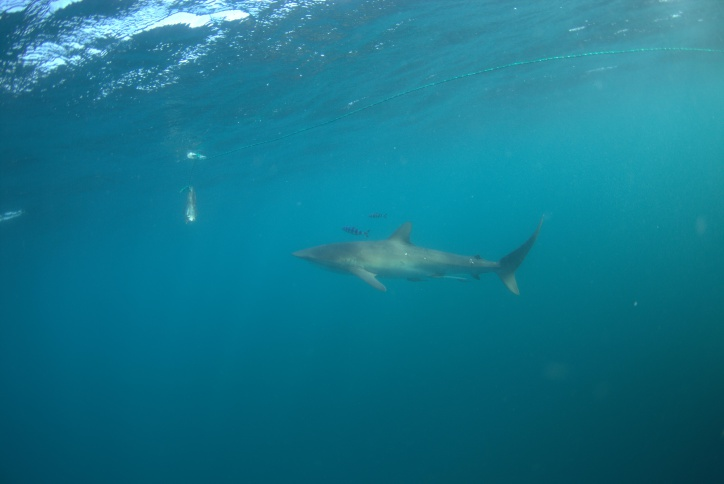Sedoso: (278, 209, 549, 311)
